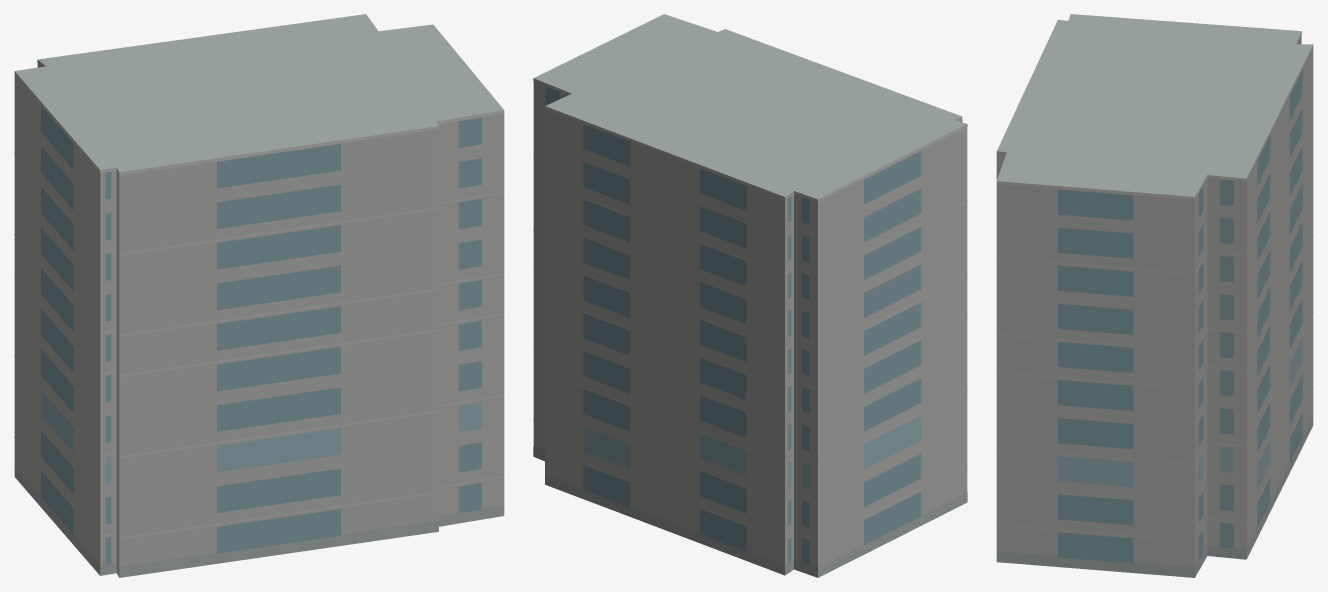
The model's file is survey-upis-32907644.glb.
3 renders of one model, left to right at view 1: azimuth 30°, elevation 25°; view 2: azimuth 150°, elevation 25°; view 3: azimuth 270°, elevation 25°, orthographic. The views are drawn at different scales.
Visible parts, largest first — view 1: survey-upis-32907644.tmp; view 2: survey-upis-32907644.tmp; view 3: survey-upis-32907644.tmp.
Boxes of the visible parts, x1,y1,x2,y2 form: survey-upis-32907644.tmp: (14,14,504,577); survey-upis-32907644.tmp: (533,14,967,577); survey-upis-32907644.tmp: (996,14,1313,577).
Size of the model in its own units: 31.43 by 30.5 by 23.01.
